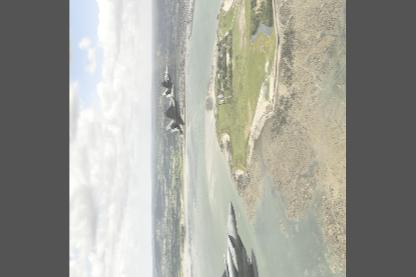F117: (214, 200, 268, 276), (165, 82, 184, 134), (161, 64, 172, 98)
